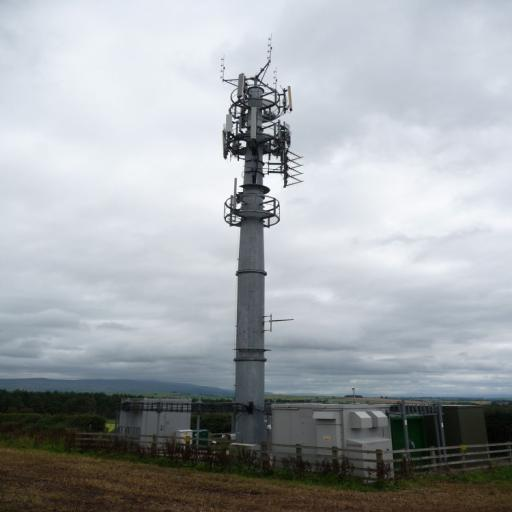monopole_tower: (220, 33, 304, 445)
